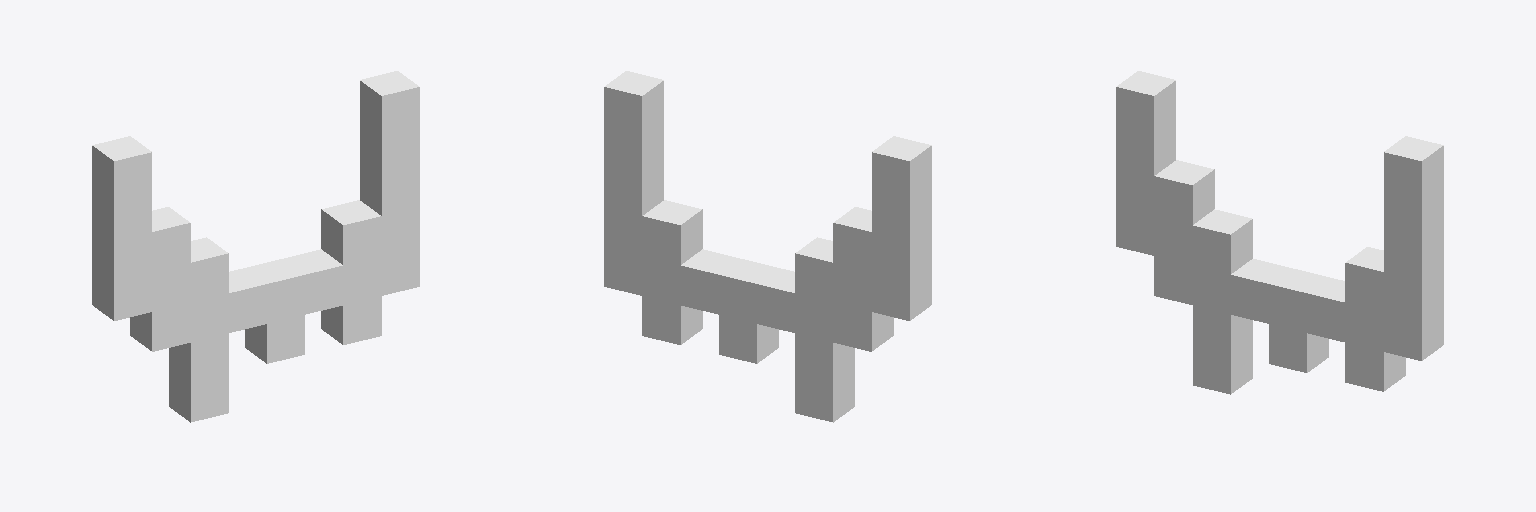
The model's file is mouth5.obj.
3 renders of one model, left to right at view 1: azimuth 30°, elevation 25°; view 2: azimuth 150°, elevation 25°; view 3: azimuth 330°, elevation 25°, orthographic.
Parts seen in each view (by area): view 1: object 1; view 2: object 1; view 3: object 1.
Part boxes in pixels (bbox=[...]): object 1: bbox=[92, 71, 419, 422]; object 1: bbox=[604, 71, 931, 422]; object 1: bbox=[1116, 71, 1443, 394].
Bounding box in the file's own units: 0.8 × 0.7 × 0.1.